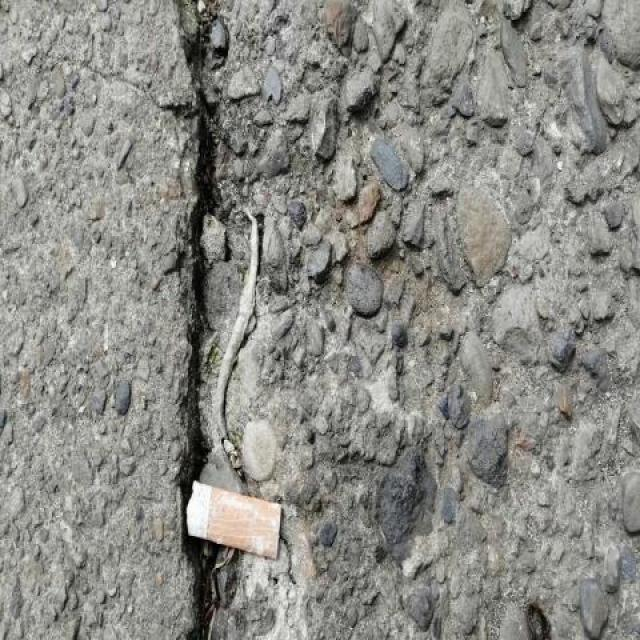non-organic waste: (182, 477, 286, 566)
